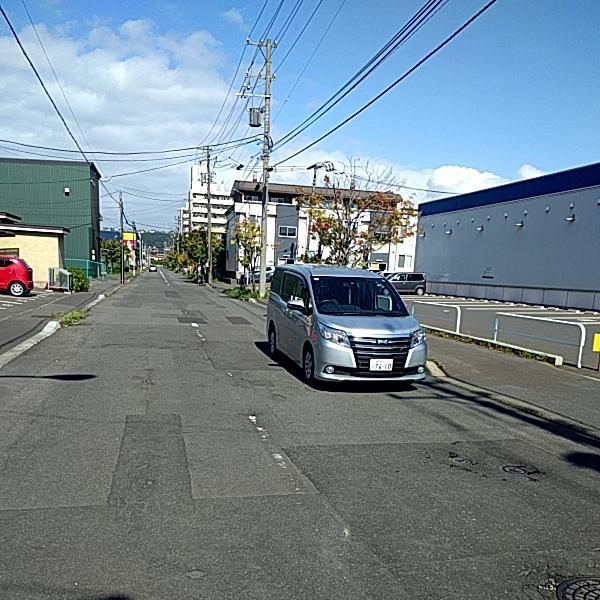D40: (174, 565, 206, 581)
D50: (557, 577, 599, 597), (498, 460, 540, 473)
